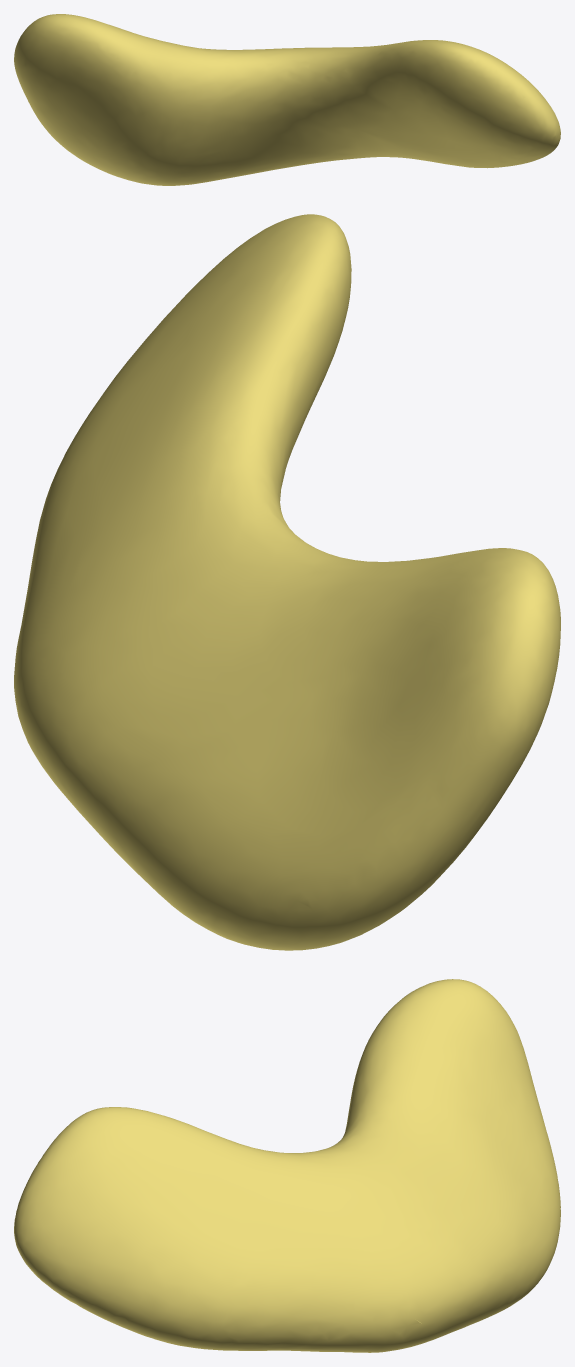
Rendered from gracile-lobule-l.glb.
3 views of the same model, one above another, from view 1: azimuth 30°, elevation 25°; view 2: azimuth 150°, elevation 25°; view 3: azimuth 270°, elevation 25° (orthographic). The views are drawn at different scales.
Visible parts, largest first — view 1: Gracile lobule.l; view 2: Gracile lobule.l; view 3: Gracile lobule.l.
Boxes of the visible parts, x1,y1,x2,y2 form: Gracile lobule.l: [14, 14, 560, 185]; Gracile lobule.l: [14, 214, 560, 950]; Gracile lobule.l: [14, 979, 560, 1352].
Bounding box in the file's own units: 0.0348 × 0.0194 × 0.0366.
